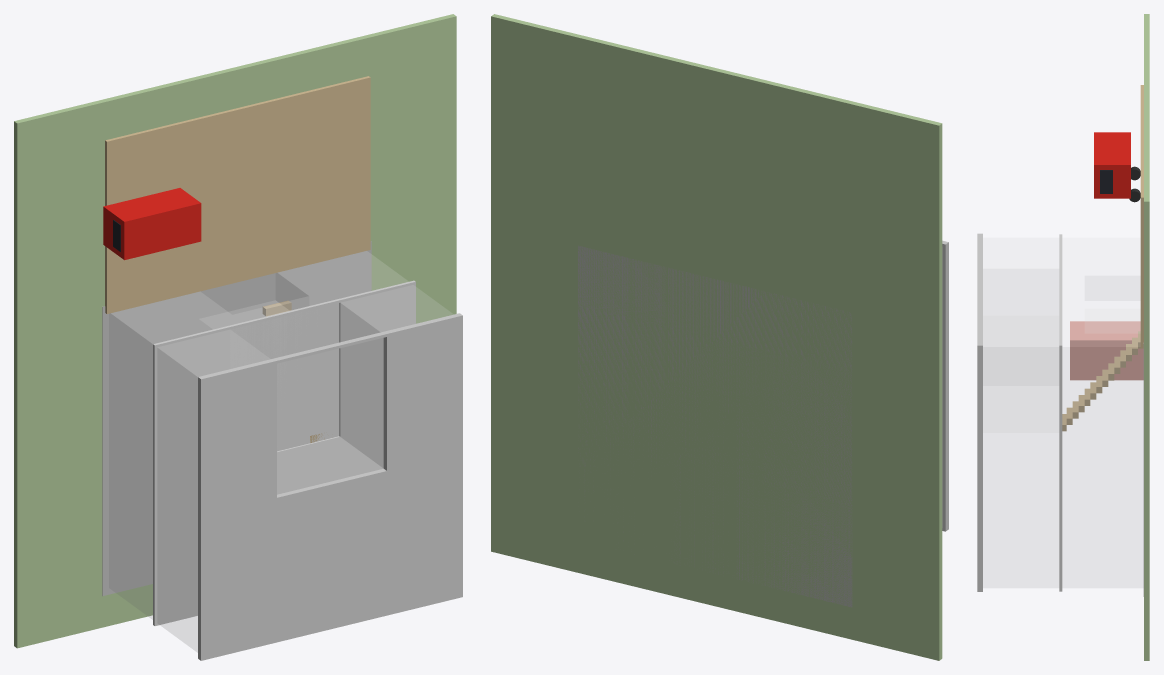
The model's file is building.glb.
3 renders of one model, left to right at view 1: azimuth 30°, elevation 25°; view 2: azimuth 150°, elevation 25°; view 3: azimuth 270°, elevation 25°, orthographic. The views are drawn at different scales.
Parts seen in each view (by area): view 1: 敷地(芝生), 屋根, テラスデッキ, 階間スラブ帯, 2F コの字, 基礎, 1F ボリューム, キッチンカー_車体; view 2: 敷地(芝生), 基礎, 屋根; view 3: 1F ボリューム, 2F コの字, 敷地(芝生), 大ぬいぐるみ, キッチンカー_車体, 屋根, 階段, 階間スラブ帯, テラスデッキ, キッチンカー_窓.
Part boxes in pixels (box(x1,y1,x2,y2)): 敷地(芝生): box(14, 14, 456, 648); 屋根: box(198, 313, 462, 660); テラスデッキ: box(105, 76, 370, 313); 階間スラブ帯: box(153, 280, 415, 625); 2F コの字: box(158, 285, 452, 652); 基礎: box(102, 241, 371, 596); 1F ボリューム: box(109, 251, 407, 619); キッチンカー_車体: box(103, 188, 201, 260); 敷地(芝生): box(491, 14, 942, 660); 基礎: box(578, 245, 852, 607); 屋根: box(942, 240, 948, 531); 1F ボリューム: box(1063, 238, 1142, 587); 2F コの字: box(983, 238, 1058, 587); 敷地(芝生): box(1144, 14, 1149, 660); 大ぬいぐるみ: box(1070, 321, 1143, 380); キッチンカー_車体: box(1094, 132, 1130, 198); 屋根: box(977, 233, 982, 591); 階段: box(1062, 331, 1140, 431); 階間スラブ帯: box(1059, 234, 1062, 591); テラスデッキ: box(1140, 85, 1143, 348); キッチンカー_窓: box(1100, 170, 1112, 193).
Size of the model in its own units: 24000 by 27400 by 9300.
